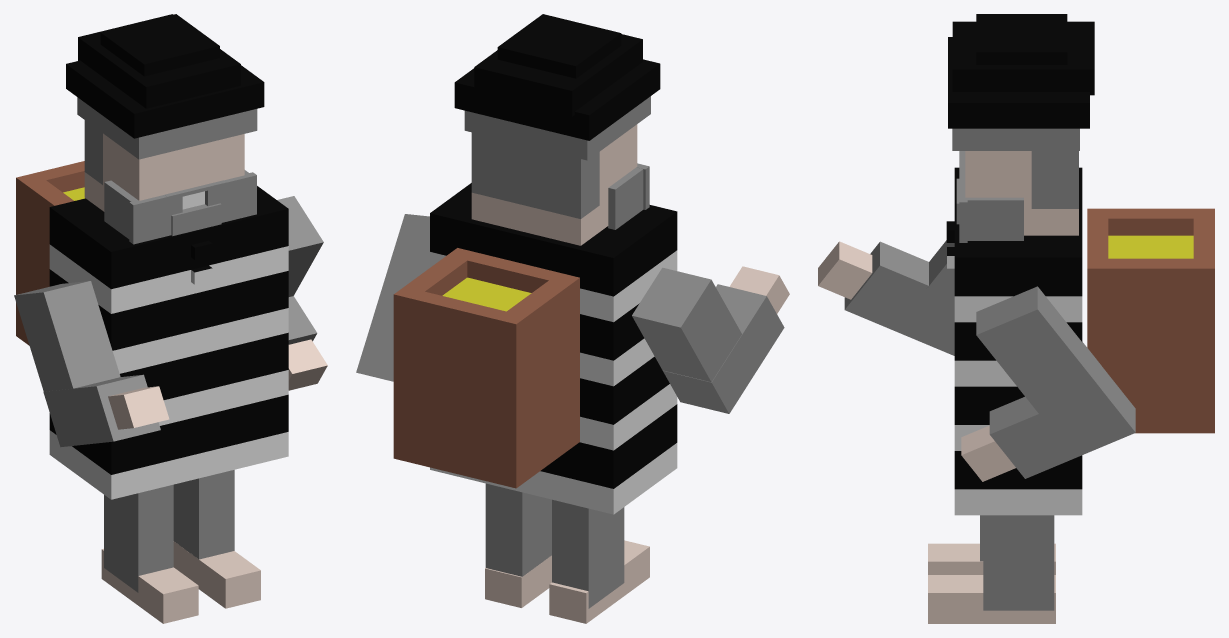
The model's file is thief.fbx.
3 renders of one model, left to right at view 1: azimuth 30°, elevation 25°; view 2: azimuth 150°, elevation 25°; view 3: azimuth 270°, elevation 25°, orthographic. The views are drawn at different scales.
Parts seen in each view (by area): view 1: body2, head, leg3; view 2: body2, head, leg3; view 3: body2, head, leg3.
Part boxes in pixels (x1,y1,x2,y2): body2: (14,161,327,499); head: (66,14,264,244); leg3: (101,470,260,623); body2: (356,183,789,514); head: (454,14,660,245); leg3: (485,483,649,623); body2: (818,167,1214,515); head: (948,14,1094,242); leg3: (928,515,1055,623).
Size of the model in its own units: 2.31 by 4.37 by 2.8.
